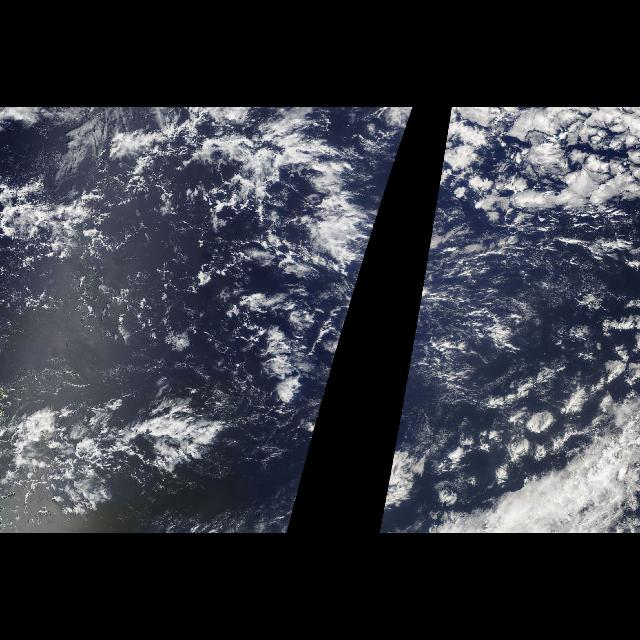Fish: (252, 111, 388, 311)
Gravel: (439, 215, 565, 348)
Sugar: (403, 215, 623, 388)
